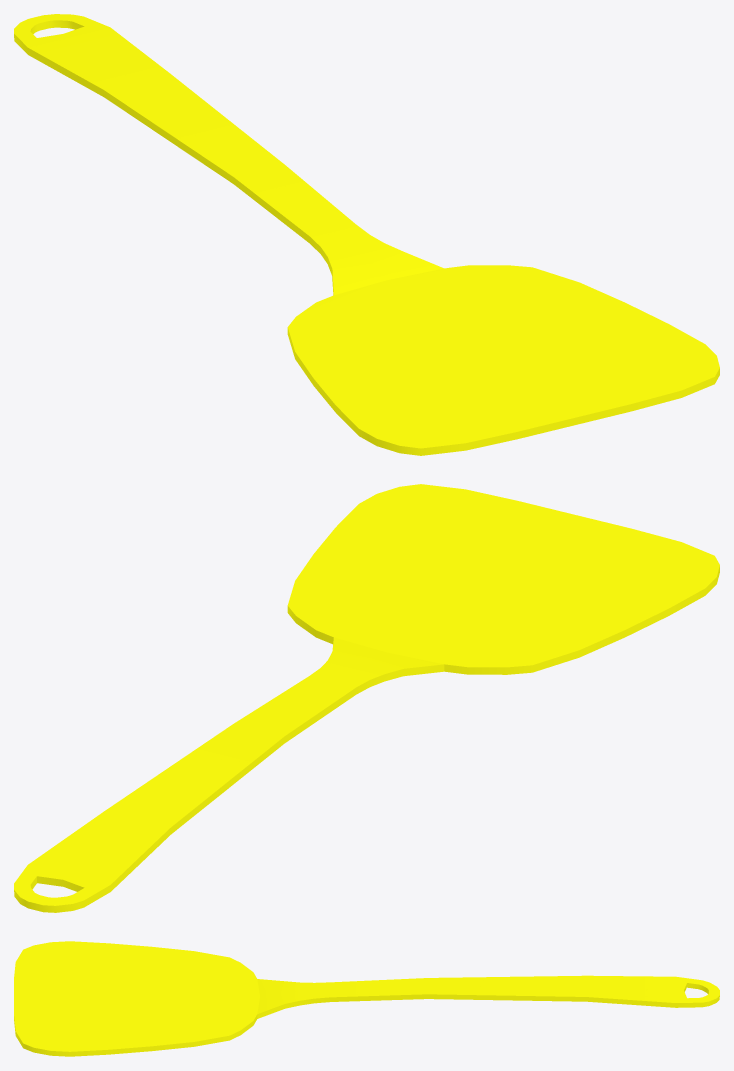
File: SM_KitchenStuff01.glb
3 renders of one model, top to bottom at view 1: azimuth 30°, elevation 25°; view 2: azimuth 150°, elevation 25°; view 3: azimuth 270°, elevation 25°, orthographic. The views are drawn at different scales.
Parts seen in each view (by area): view 1: SM_KitchenStuff01; view 2: SM_KitchenStuff01; view 3: SM_KitchenStuff01.
Boxes of the visible parts, x1,y1,x2,y2 form: SM_KitchenStuff01: (14, 14, 719, 455); SM_KitchenStuff01: (14, 484, 719, 912); SM_KitchenStuff01: (14, 941, 719, 1056).
Bounding box in the file's own units: 0.238 × 0.0153 × 0.6417.
Materials: 1 (1 with a texture image).
